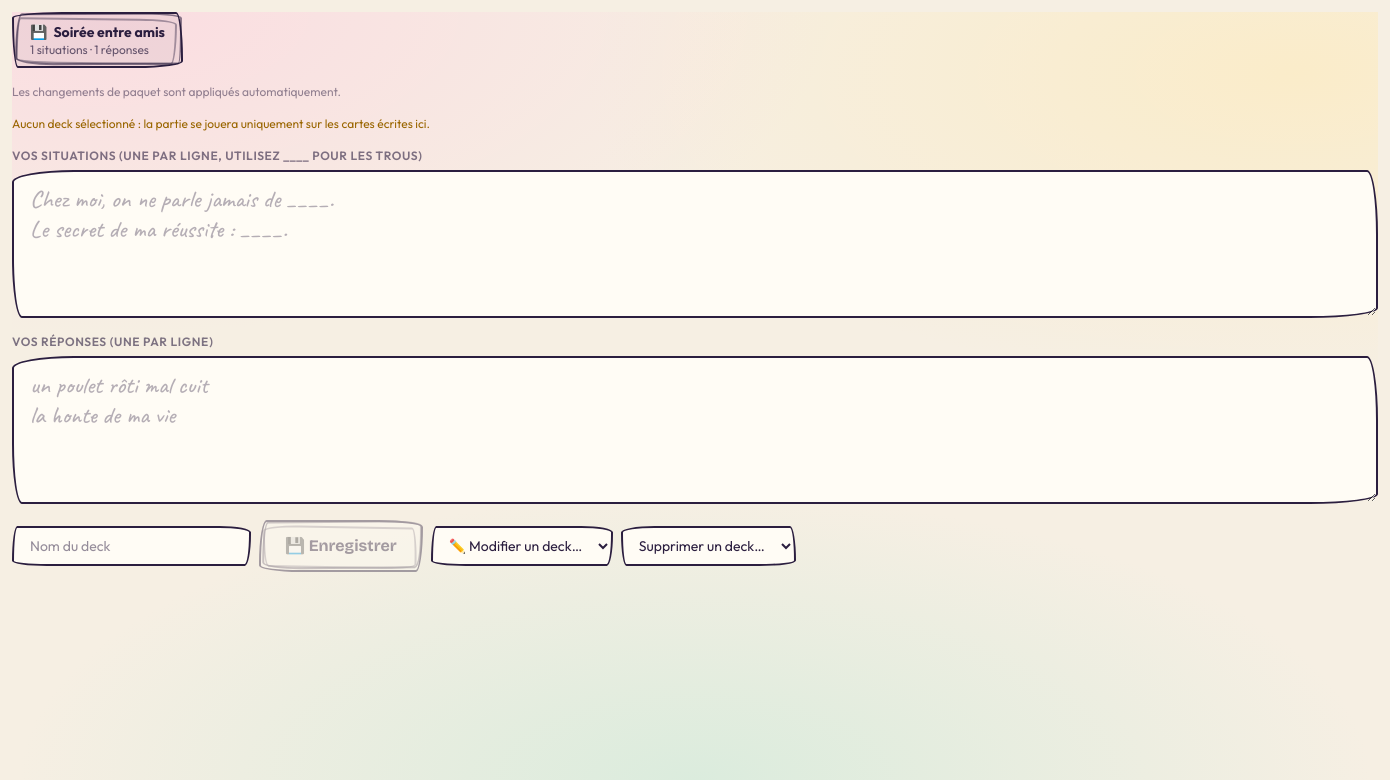
Scenario: DeckBuilder › cancels editing without touching the stored deck
Select "Soirée entre amis" in the dropdown named "Modifier un deck enregistré": coordinates (522, 546) [431,526,613,566]
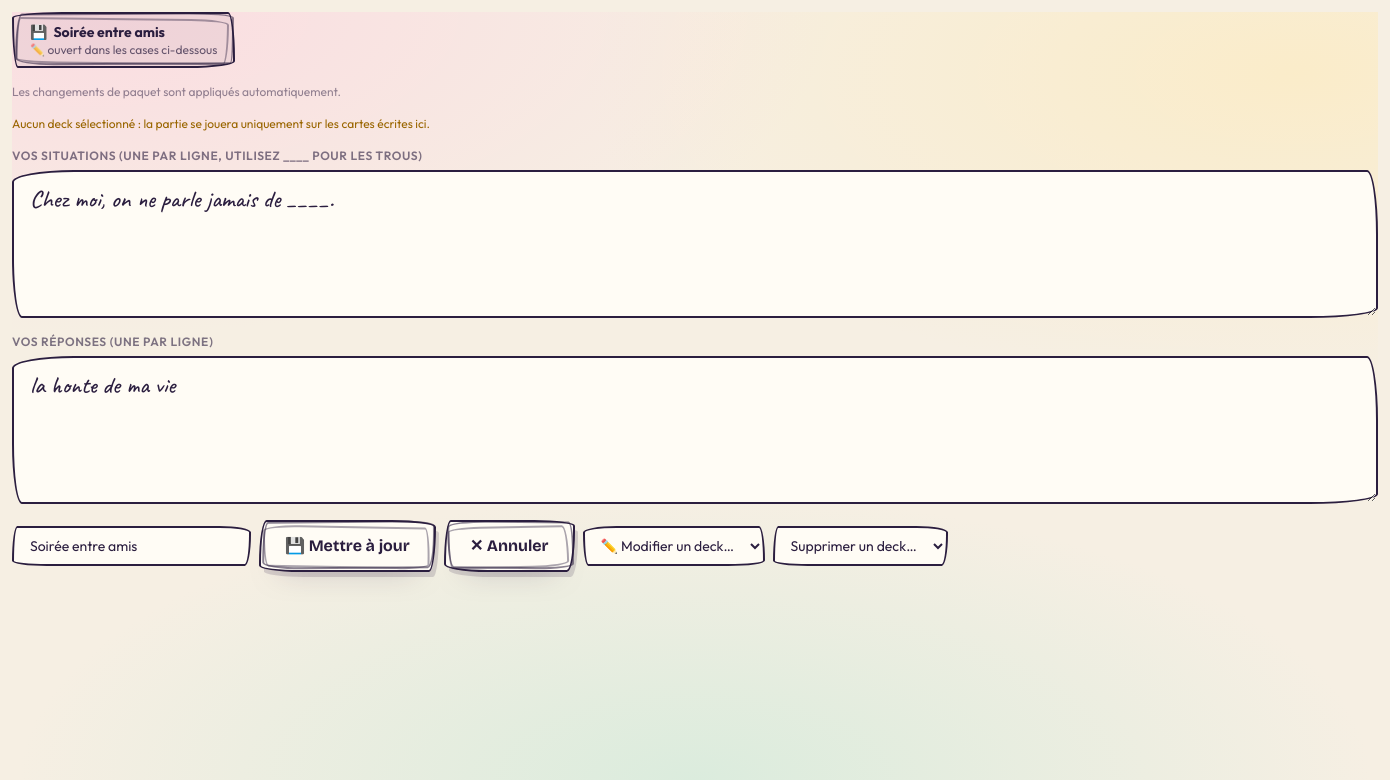
Click the button "✕ Annuler": coordinates (509, 546) [444,520,575,572]
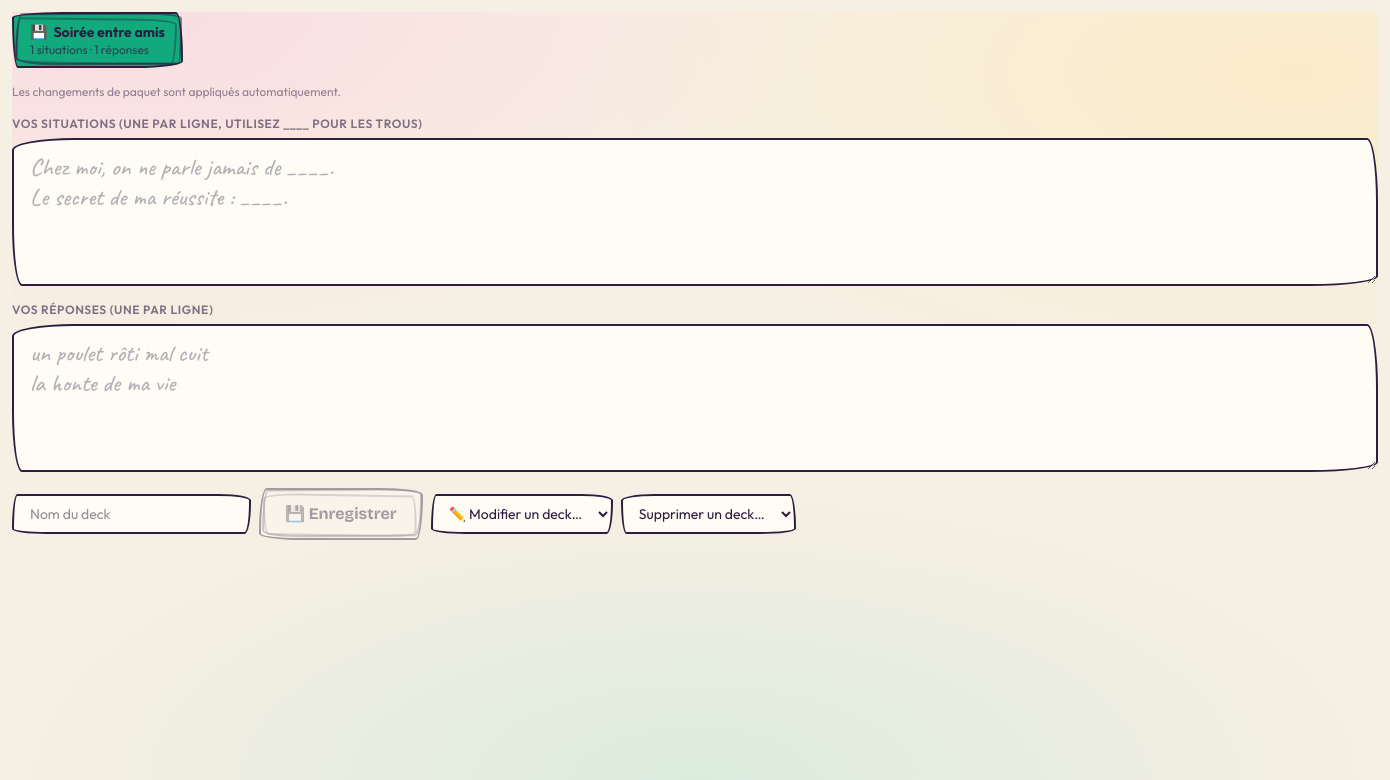
Expected: the field with placeholder "Nom du deck" is empty, [12,494,251,534]
Expected: the button "💾 Enregistrer" is shown, [259,488,423,540]
